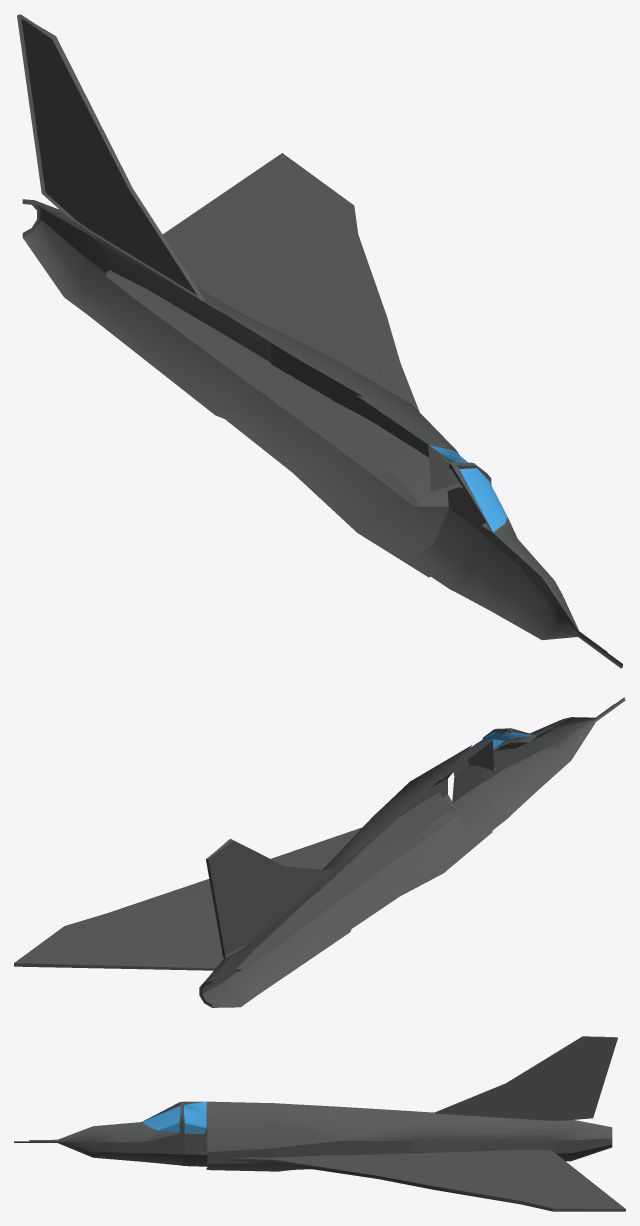
The model's file is Mondeno.glb.
The picture shows the model from 3 angles, top to bottom: view 1: azimuth 30°, elevation 25°; view 2: azimuth 150°, elevation 25°; view 3: azimuth 270°, elevation 25°; orthographic projection. The views are drawn at different scales.
Visible parts, largest first — view 1: Tail; view 2: Tail; view 3: Tail.
Boxes of the visible parts, x1=… form: Tail: x1=17, y1=14, x2=622, y2=668; Tail: x1=14, y1=697, x2=625, y2=1007; Tail: x1=14, y1=1036, x2=625, y2=1211.
Size of the model in its own units: 4.37 by 4.11 by 16.73.
